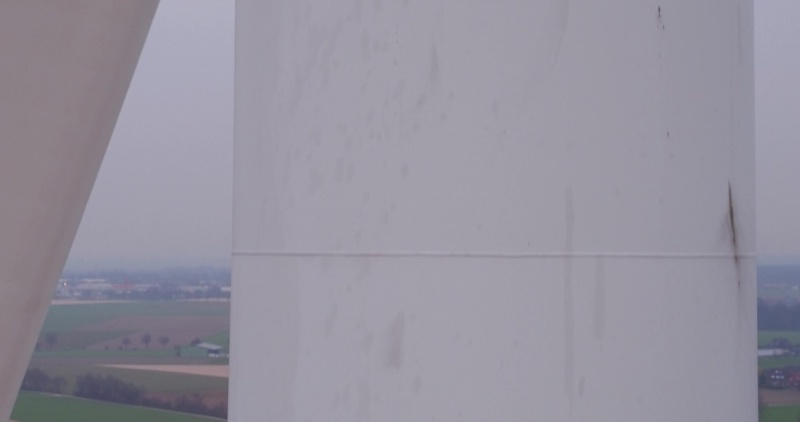weldseam: (230, 243, 762, 270)
